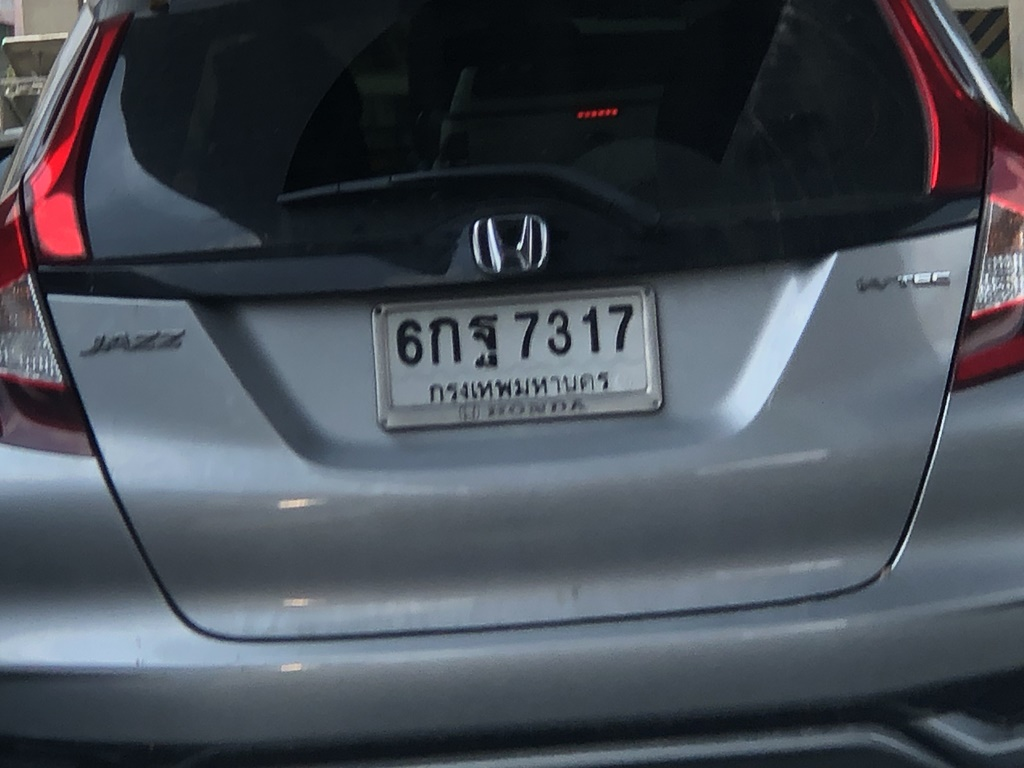six: (387, 313, 429, 367)
three: (542, 302, 580, 367)
